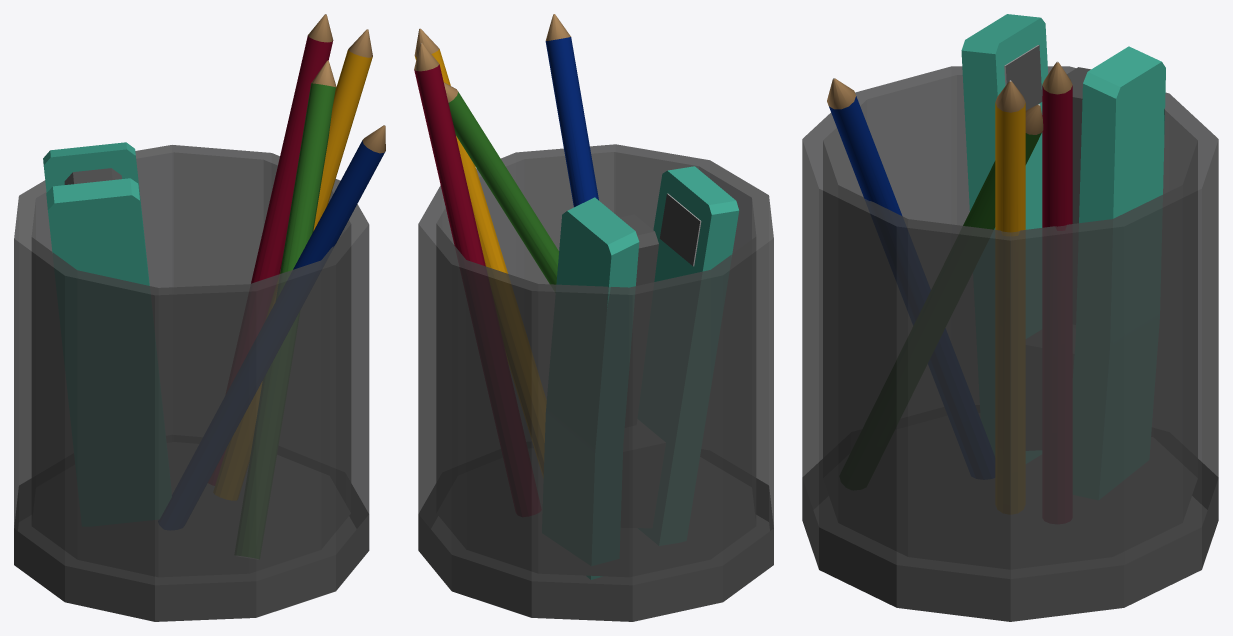
File: PotCrayons.fbx
3 renders of one model, left to right at view 1: azimuth 30°, elevation 25°; view 2: azimuth 150°, elevation 25°; view 3: azimuth 270°, elevation 25°, orthographic. The views are drawn at different scales.
Visible parts, largest first — view 1: pCylinder1, pCube3, pCylinder5, pCylinder4, pCylinder3, pCylinder2; view 2: pCylinder1, pCube3, pCylinder3, pCylinder2, pCylinder4, pCylinder5; view 3: pCylinder1, pCube3, pCylinder3, pCylinder2, pCylinder5, pCylinder4.
Boxes of the visible parts, bbox=[...] form: pCylinder1: bbox=[14, 145, 369, 621]; pCube3: bbox=[43, 142, 171, 525]; pCylinder5: bbox=[158, 125, 385, 529]; pCylinder4: bbox=[235, 60, 336, 558]; pCylinder3: bbox=[208, 14, 333, 485]; pCylinder2: bbox=[214, 29, 372, 499]; pCylinder1: bbox=[418, 144, 773, 621]; pCube3: bbox=[542, 166, 739, 579]; pCylinder3: bbox=[414, 43, 540, 516]; pCylinder2: bbox=[414, 28, 545, 474]; pCylinder4: bbox=[444, 82, 558, 290]; pCylinder5: bbox=[545, 14, 598, 207]; pCylinder1: bbox=[802, 66, 1218, 621]; pCube3: bbox=[961, 14, 1165, 499]; pCylinder3: bbox=[1042, 61, 1072, 523]; pCylinder2: bbox=[995, 80, 1025, 513]; pCylinder5: bbox=[827, 78, 994, 479]; pCylinder4: bbox=[840, 104, 1043, 489].
Size of the model in its own units: 1.05 by 1.45 by 0.9776.
